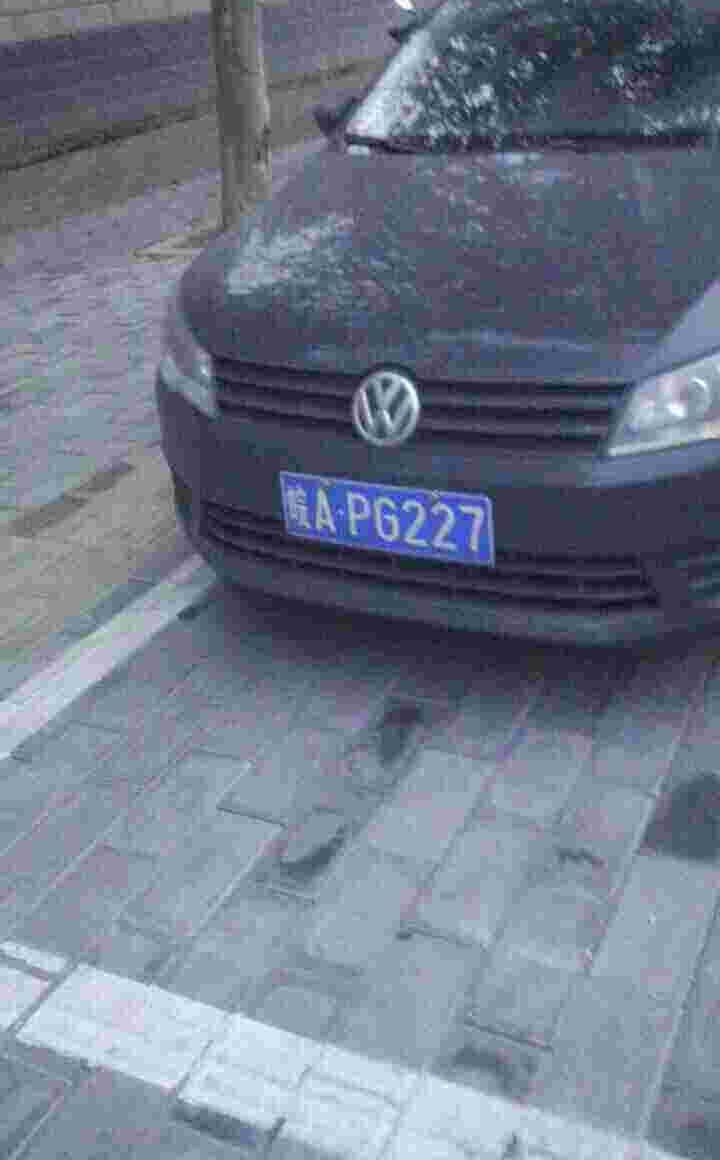license_plate: (283, 481, 501, 562)
